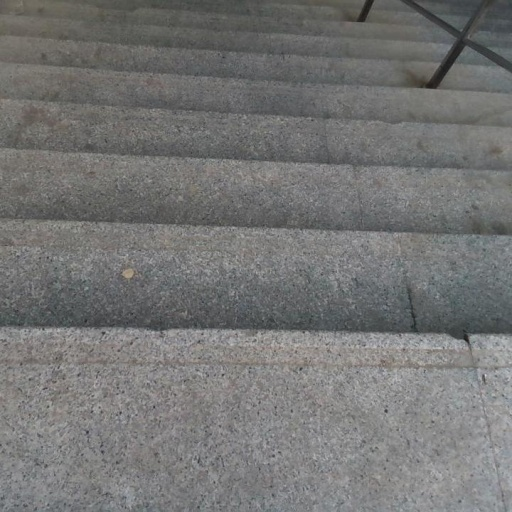Stairs: (1, 0, 512, 512)
